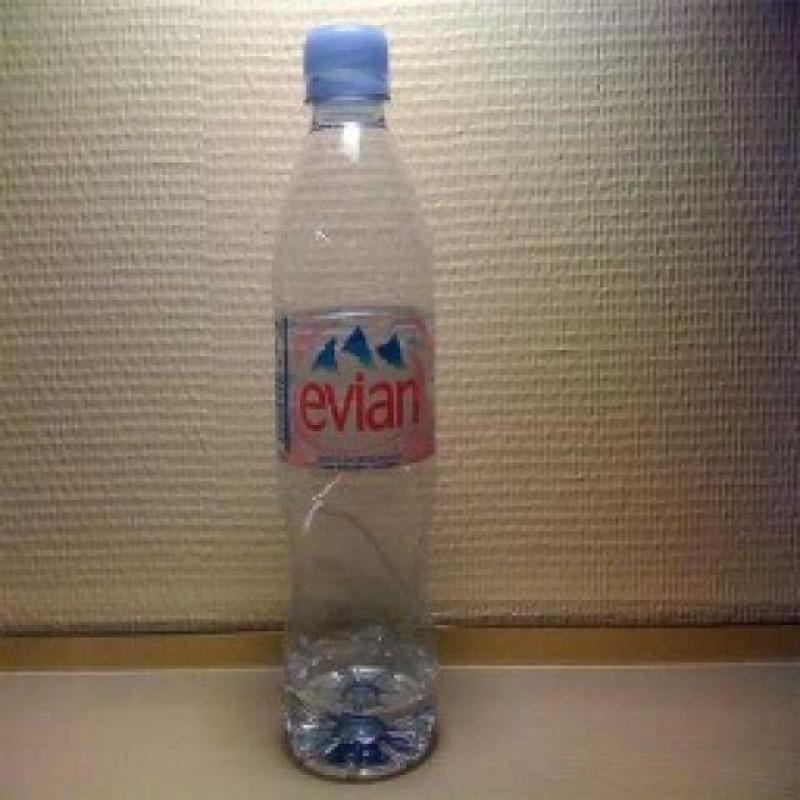botella: (273, 29, 442, 783)
